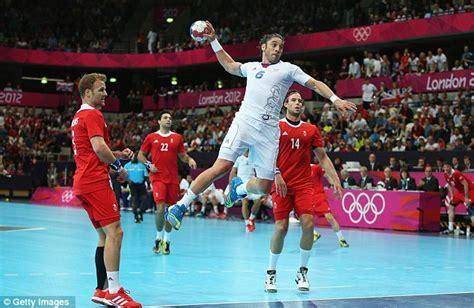ballon_handball: (189, 19, 213, 44)
